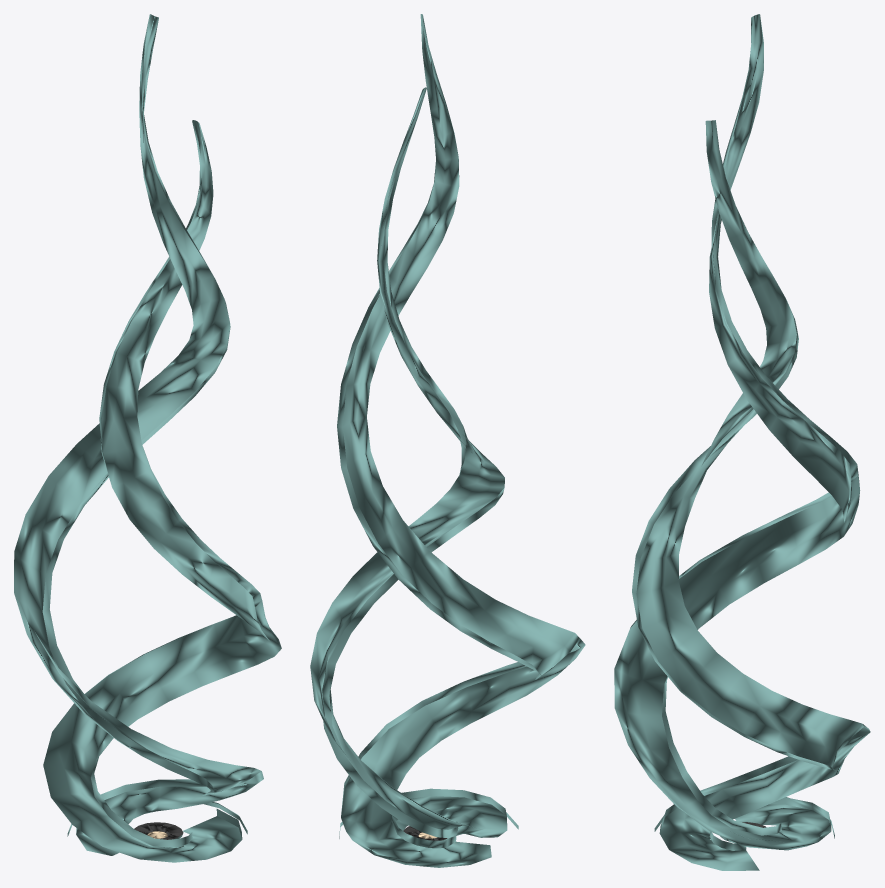
Rendered from bar_mmhc_sculpture_helix_a.glb.
The picture shows the model from 3 angles, left to right: view 1: azimuth 30°, elevation 25°; view 2: azimuth 150°, elevation 25°; view 3: azimuth 270°, elevation 25°; orthographic projection.
Size of the model in its own units: 0.5827 by 1.97 by 0.5571.
